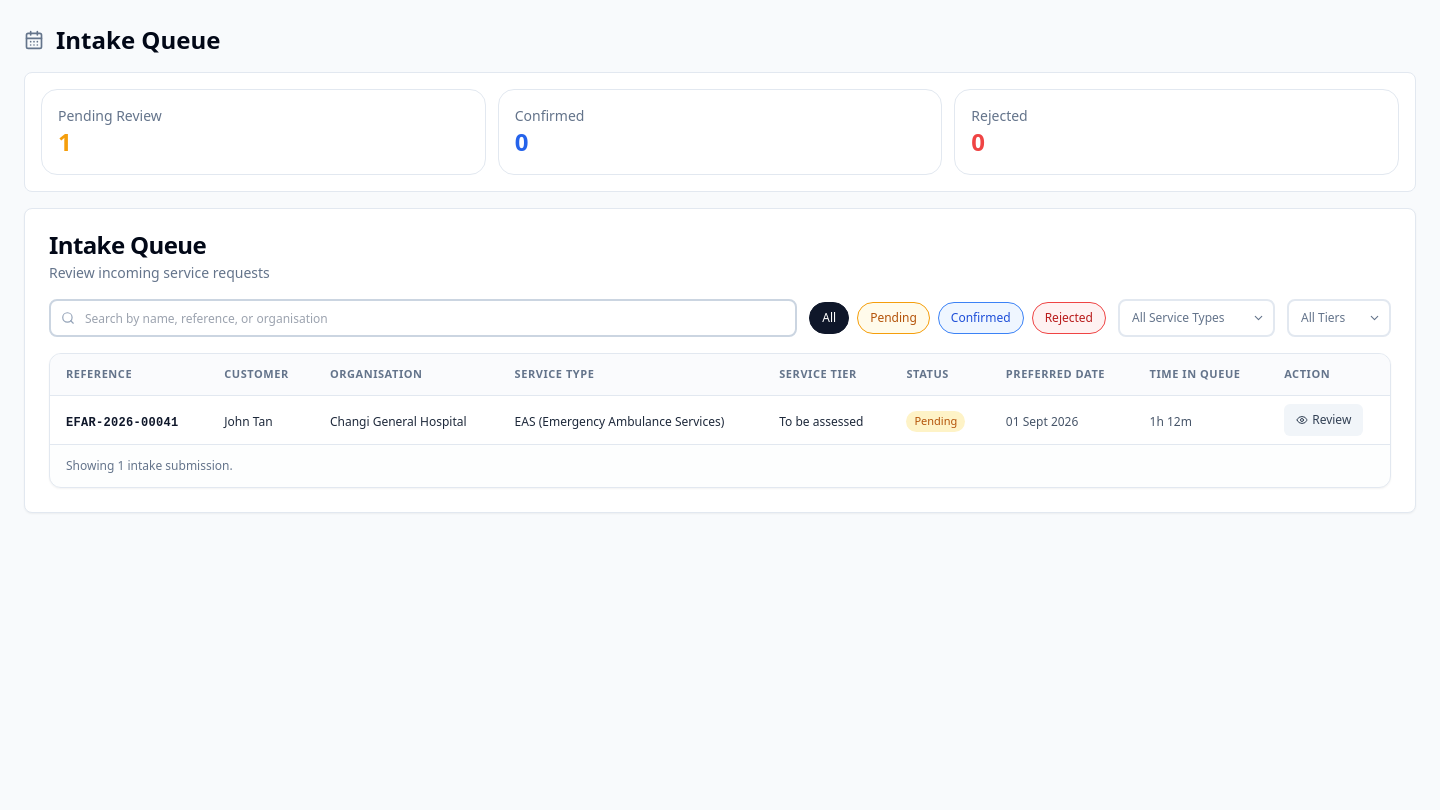
Test: IntakeQueuePage - reject flow › rejecting with a reason posts it and shows a success toast
The image size is (1440, 810).
Expected: the text "EFAR-2026-00041" is shown, [66, 416, 178, 430]
Click the button "Review" at (1324, 420), box [1284, 404, 1363, 436]
(page scrolled)
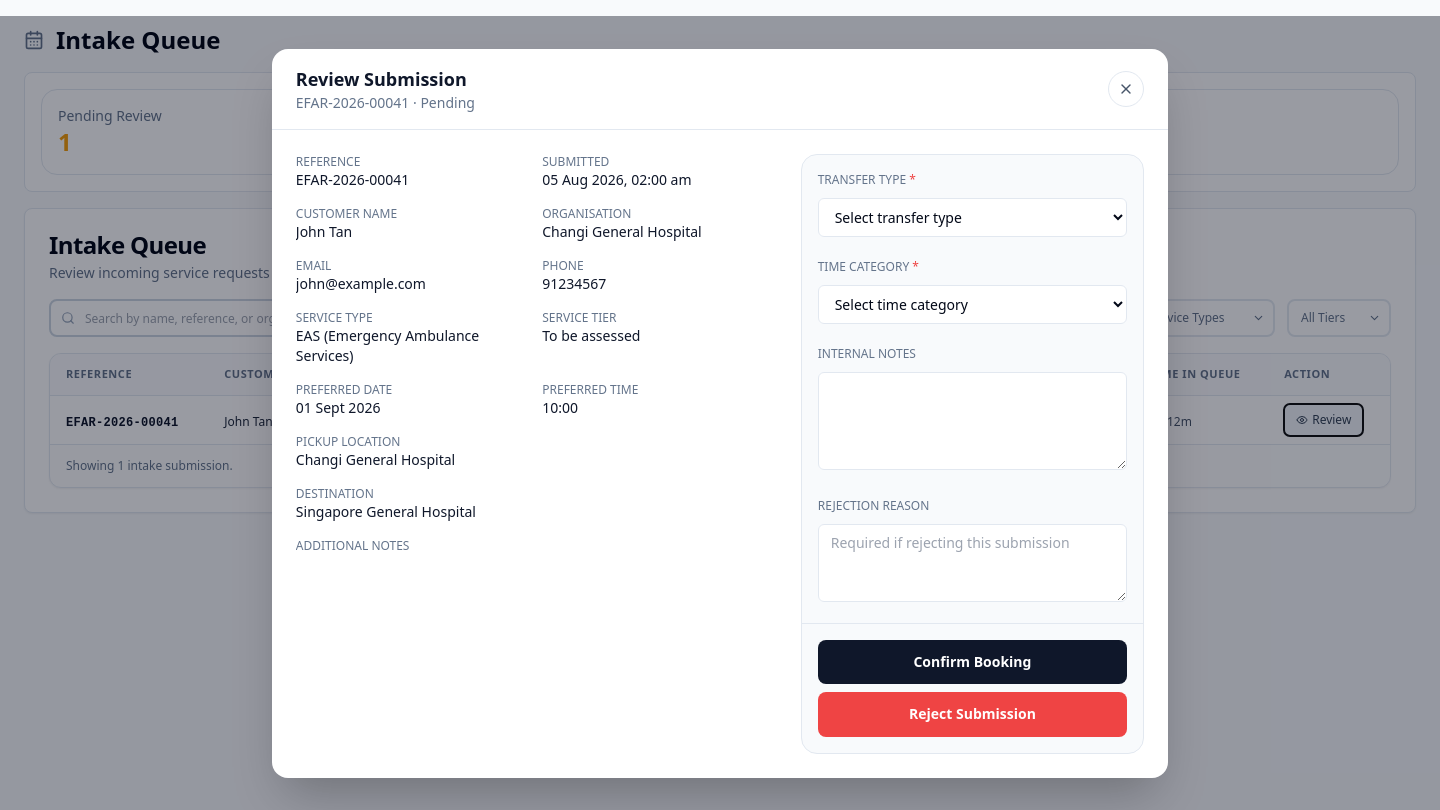
Type "Outside service area" into the text box with placeholder "Required if rejecting this submission" at (972, 562), box [818, 524, 1127, 602]
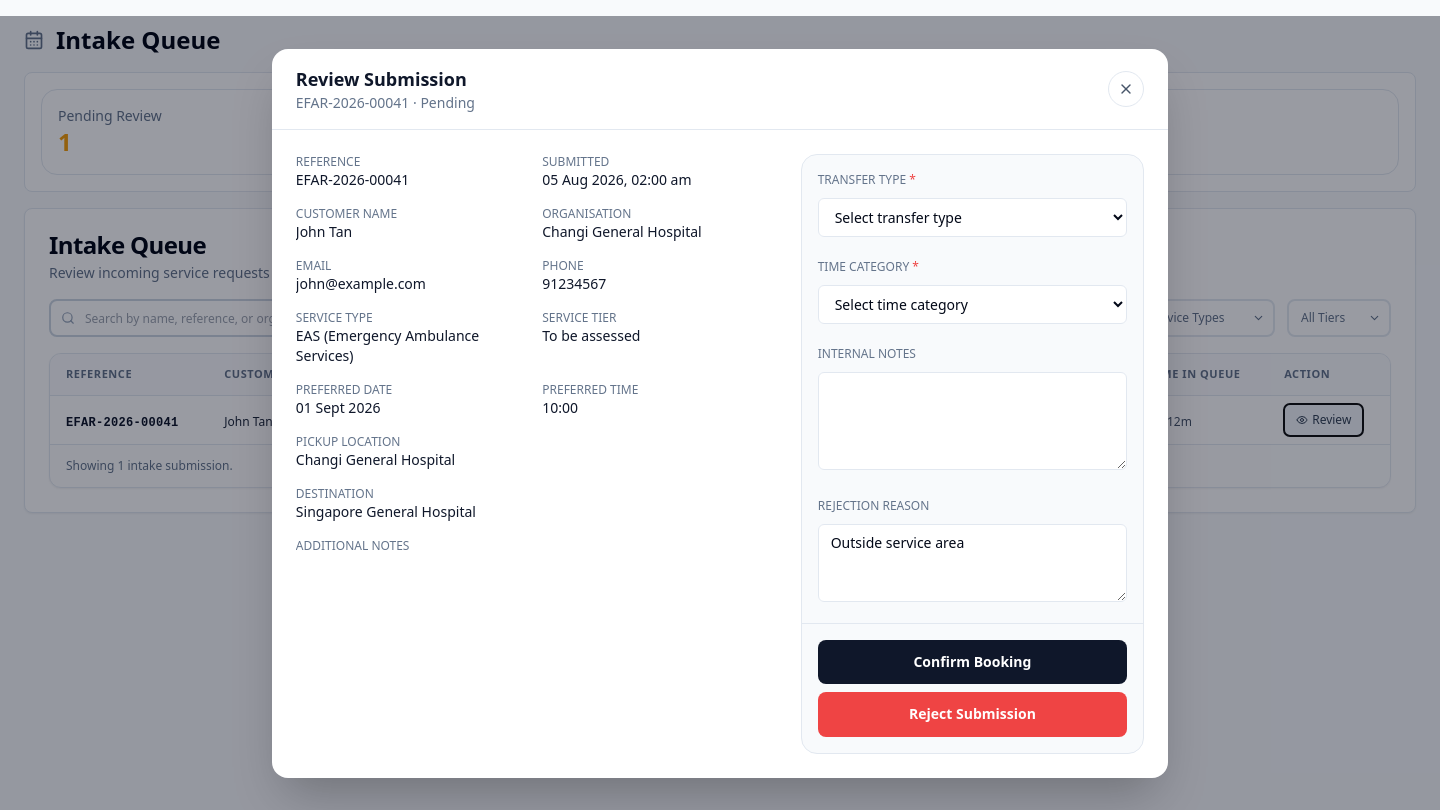
Click the button "Reject Submission" at (972, 714), box [818, 692, 1127, 736]
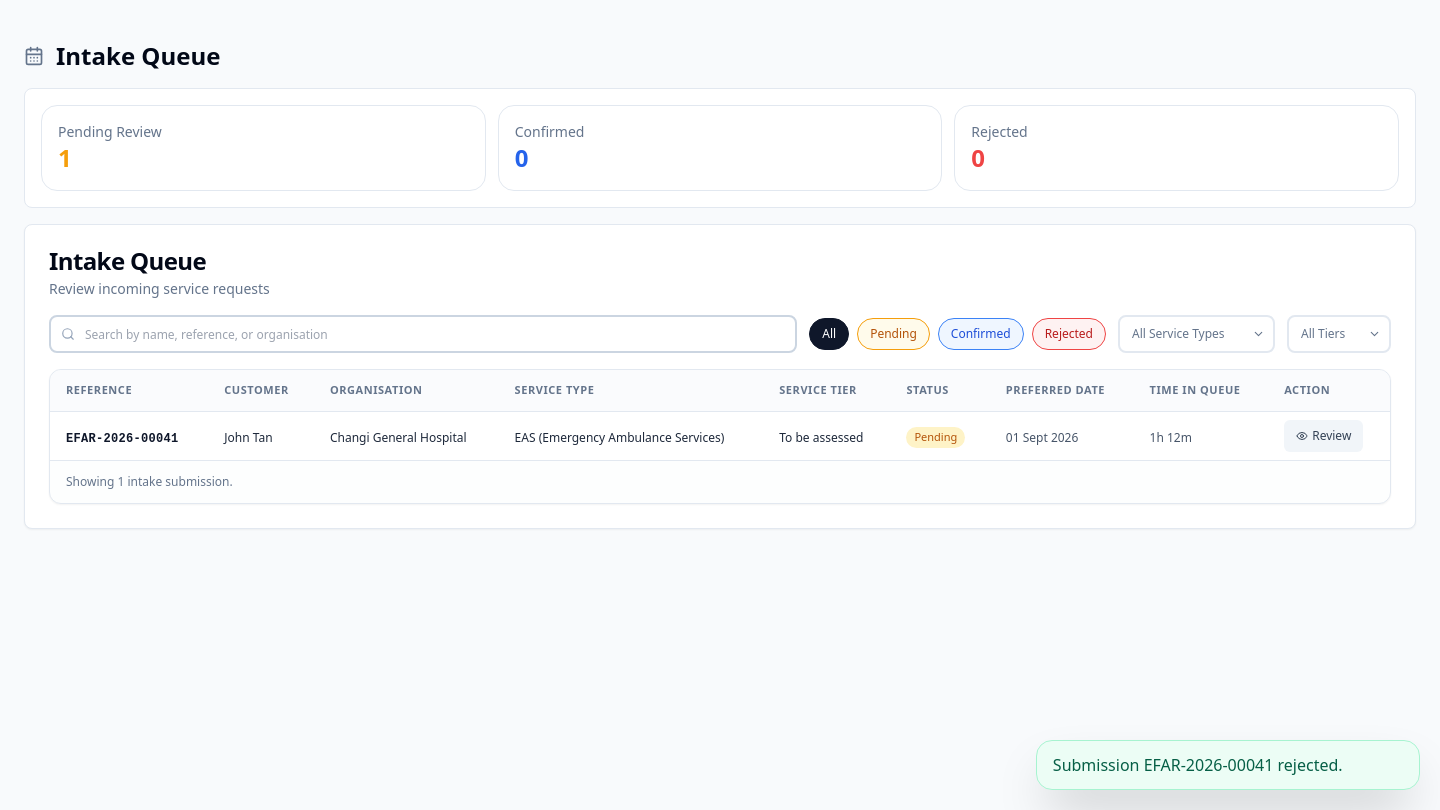
Result: the text "Submission EFAR-2026-00041 rejected." is shown at [1036, 740, 1420, 790]
